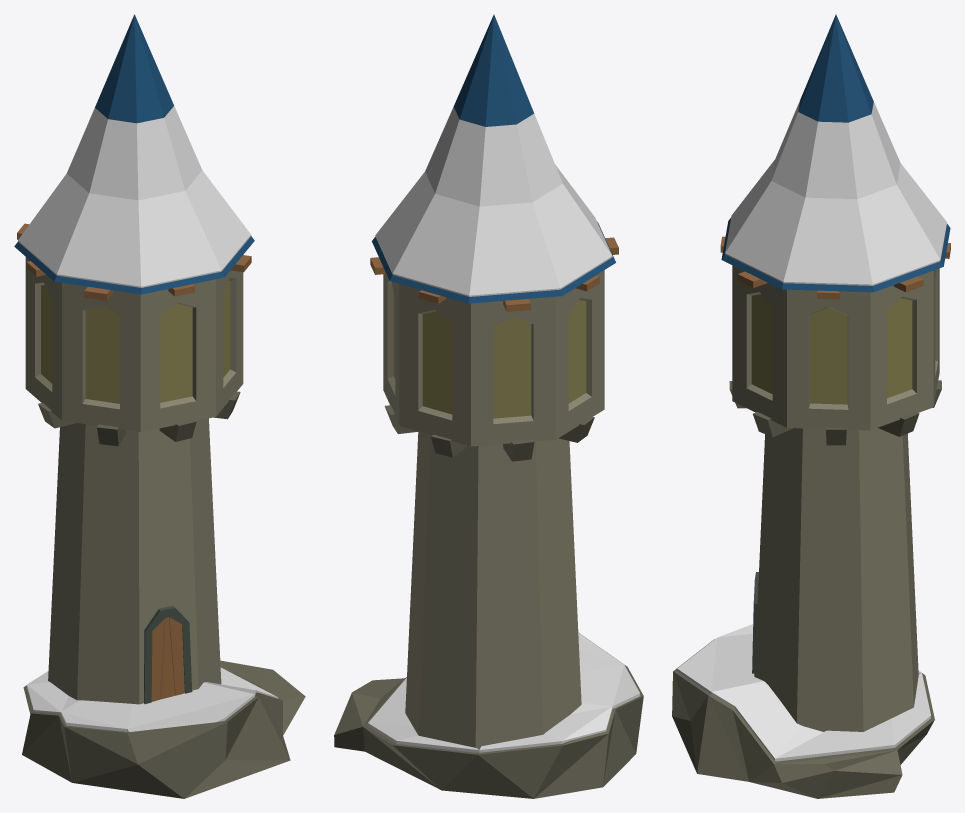
File: WizardTower_snow_mat.fbx
The picture shows the model from 3 angles, left to right: view 1: azimuth 30°, elevation 25°; view 2: azimuth 150°, elevation 25°; view 3: azimuth 270°, elevation 25°; orthographic projection. The views are drawn at different scales.
Parts seen in each view (by area): view 1: WizardTower_snow_mat; view 2: WizardTower_snow_mat; view 3: WizardTower_snow_mat.
Boxes of the visible parts, bbox=[...] form: WizardTower_snow_mat: bbox=[14, 14, 305, 798]; WizardTower_snow_mat: bbox=[334, 14, 643, 798]; WizardTower_snow_mat: bbox=[672, 14, 950, 798].
Size of the model in its own units: 2.46 by 6.68 by 2.35.
